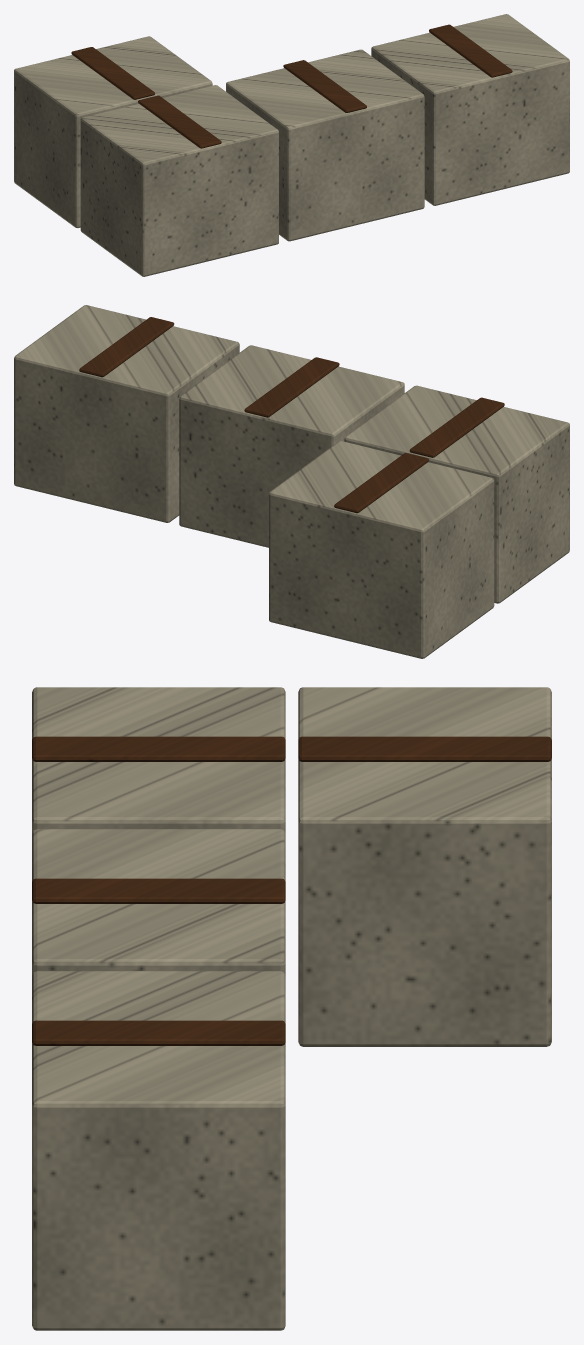
Rendered from PROP-E9F7C84EEC24_lod0.glb.
The picture shows the model from 3 angles, top to bottom: view 1: azimuth 30°, elevation 25°; view 2: azimuth 150°, elevation 25°; view 3: azimuth 270°, elevation 25°; orthographic projection. The views are drawn at different scales.
Parts seen in each view (by area): view 1: cardboard_box, box_tape; view 2: cardboard_box, box_tape; view 3: cardboard_box, box_tape.
Part boxes in pixels (bbox=[...]): cardboard_box: bbox=[14, 14, 569, 276]; box_tape: bbox=[71, 24, 512, 148]; cardboard_box: bbox=[14, 305, 569, 658]; box_tape: bbox=[79, 317, 504, 513]; cardboard_box: bbox=[32, 687, 551, 1330]; box_tape: bbox=[32, 736, 551, 1045].
Bounding box in the file's own units: 1.56 × 0.411 × 0.82.
2 materials, 2 textured.
